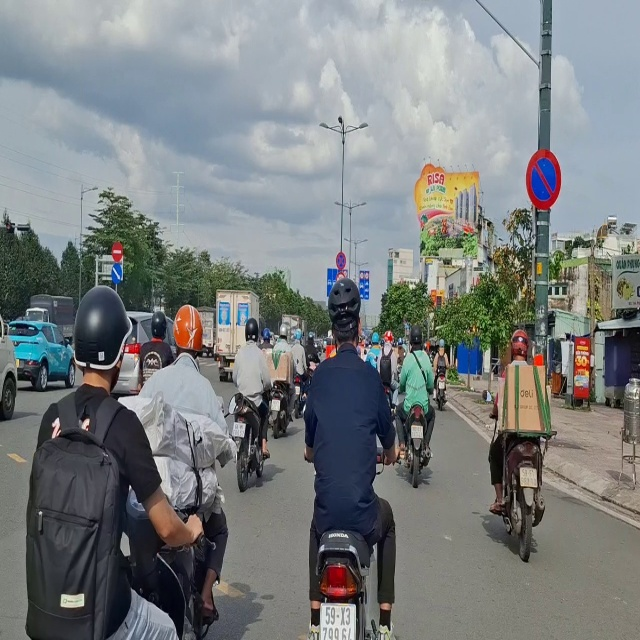cam: (100, 233, 133, 263)
cam do xe: (516, 143, 567, 216)
huong di vong sang phai: (101, 266, 129, 289)
